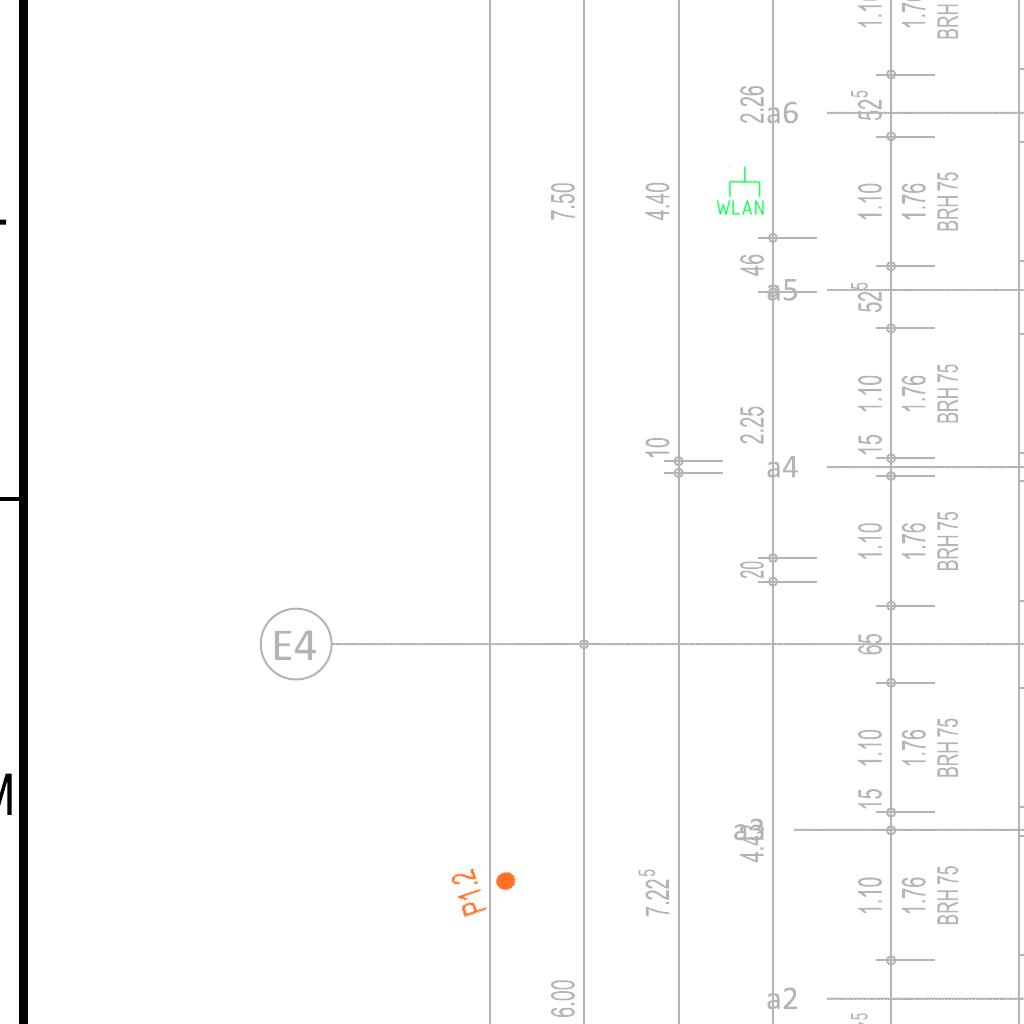Downlight_LED_Einbauleuchten_Flur: (448, 854, 524, 920)
WLAN: (714, 165, 766, 217)
